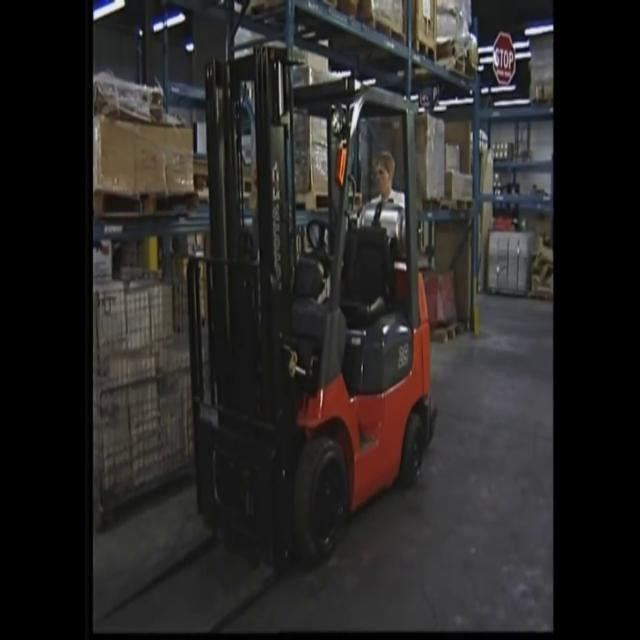forklift: (236, 81, 433, 549)
